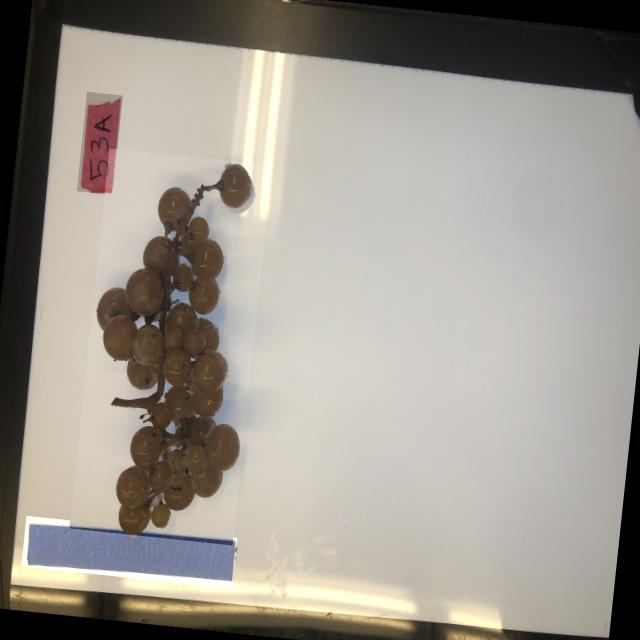grape_cluster: (69, 147, 272, 544)
index: (76, 90, 122, 194)
measure_label: (21, 514, 238, 588)
